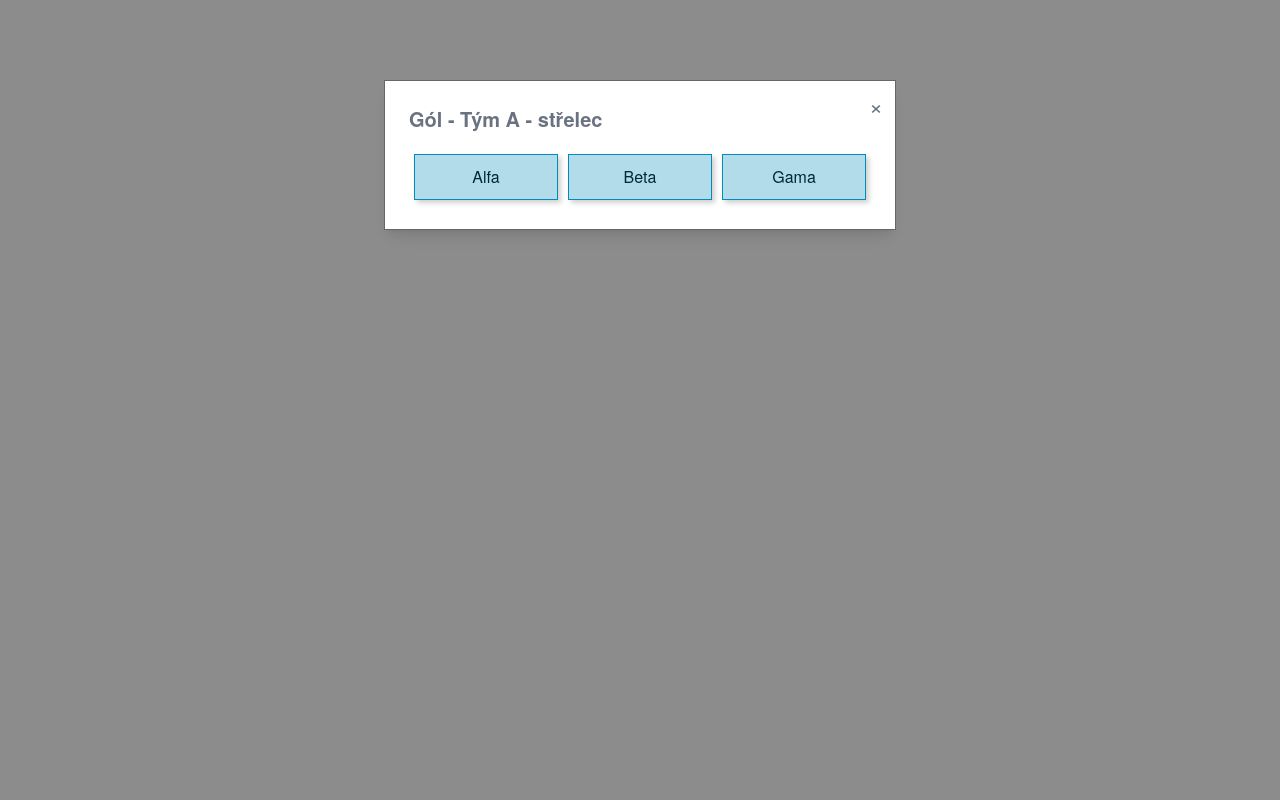
Test: GoalDialog: back button returns to shooter step
Click the button "Alfa" at (486, 177), box top-left (414, 154), bottom-right (558, 200)
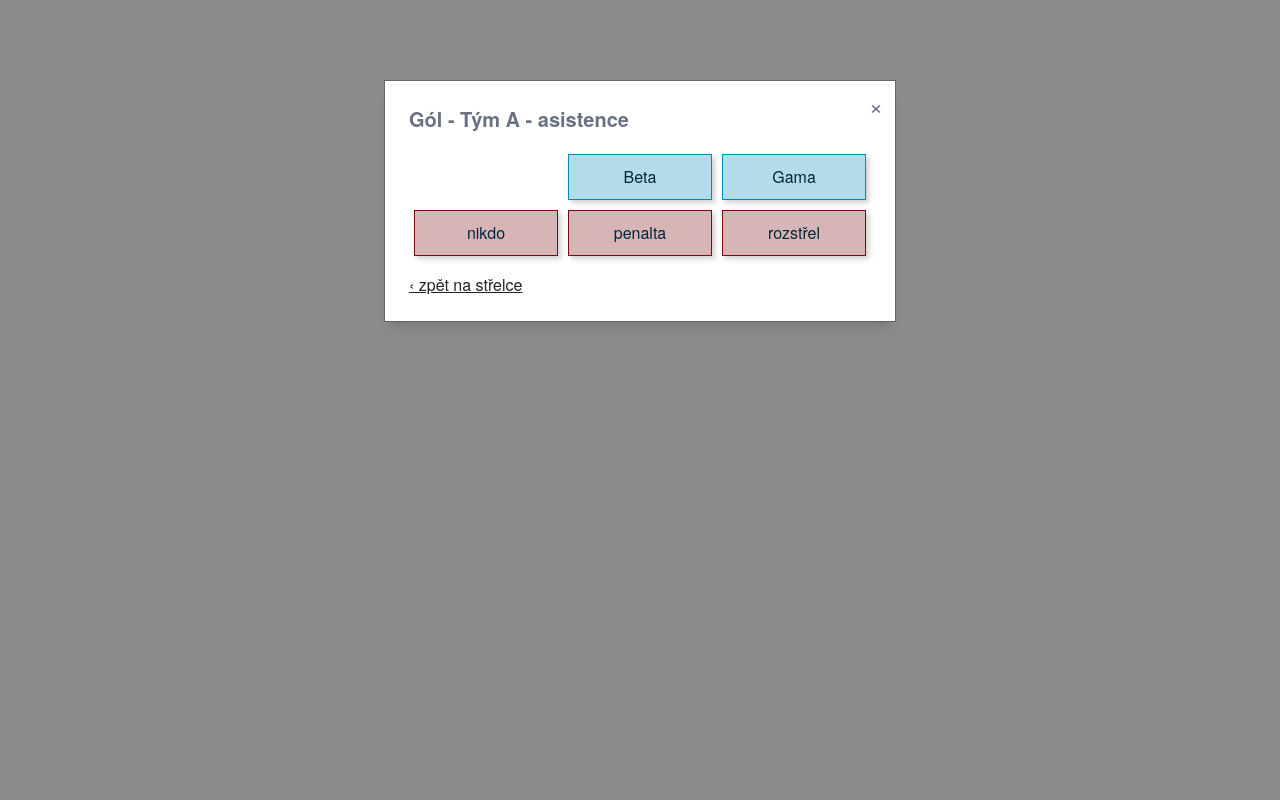
Click the button "‹ zpět na střelce" at (466, 285), box top-left (409, 273), bottom-right (522, 297)
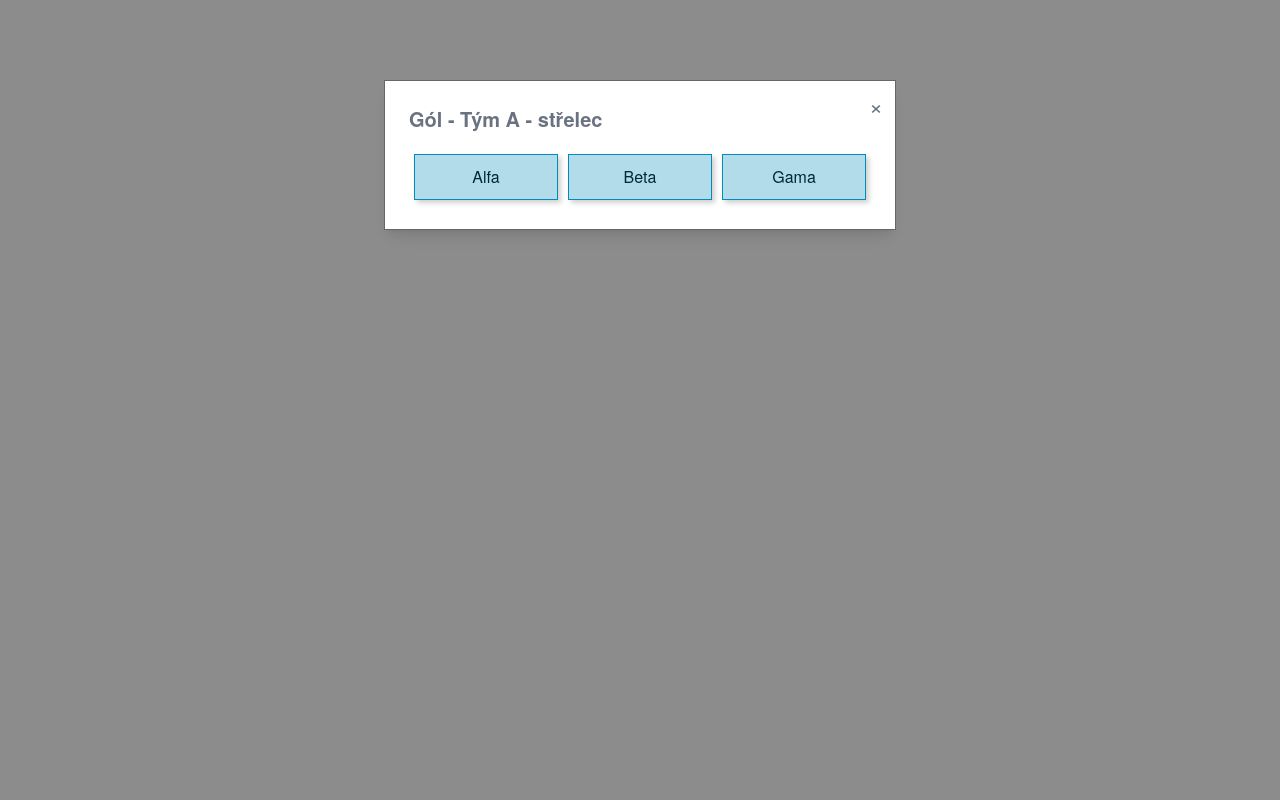
Expected: the heading "Gól - Tým A - střelec" is shown, top-left (409, 104), bottom-right (602, 133)
Expected: the button "Alfa" is shown, top-left (414, 154), bottom-right (558, 200)
